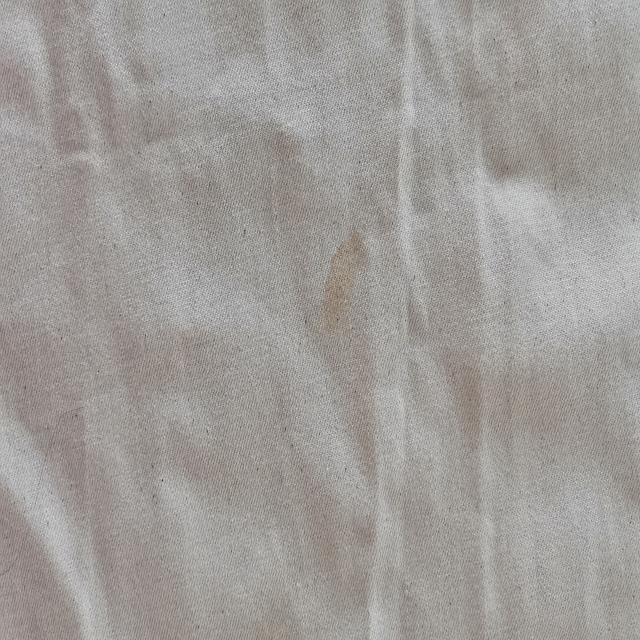taaaches: (322, 214, 372, 352)
